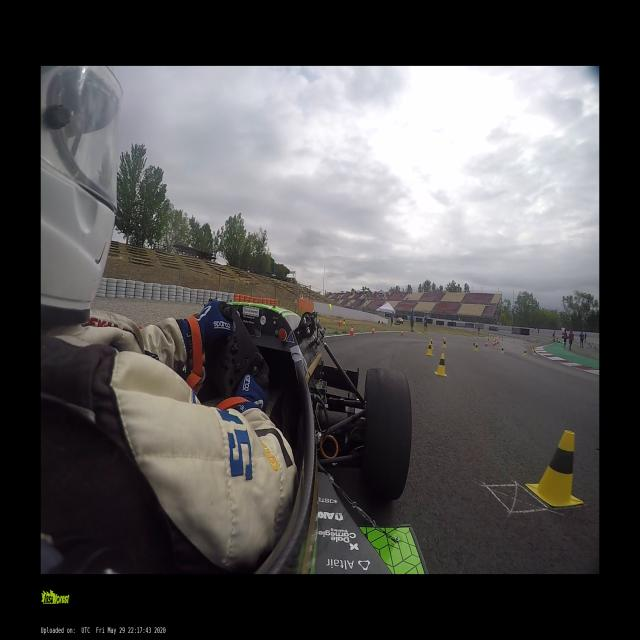orange_cone: (349, 326, 354, 336), (338, 318, 342, 327), (371, 328, 375, 335), (400, 329, 403, 336)
yellow_cone: (526, 430, 588, 508), (434, 354, 447, 376), (425, 342, 433, 355), (428, 339, 434, 349), (522, 349, 526, 357), (442, 340, 446, 348), (474, 344, 478, 351), (500, 347, 504, 354), (342, 318, 346, 325), (533, 349, 536, 356), (532, 346, 535, 352)
